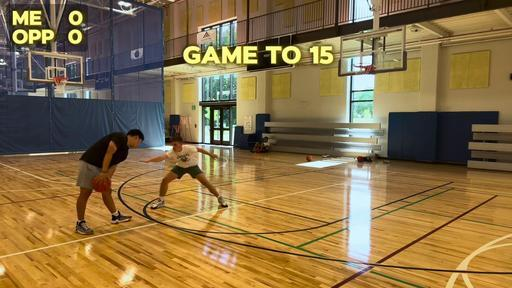ball: (94, 176, 112, 192), (306, 154, 314, 162)
human: (74, 128, 144, 235), (139, 136, 229, 210)
rim: (353, 64, 372, 81), (54, 77, 68, 92)
